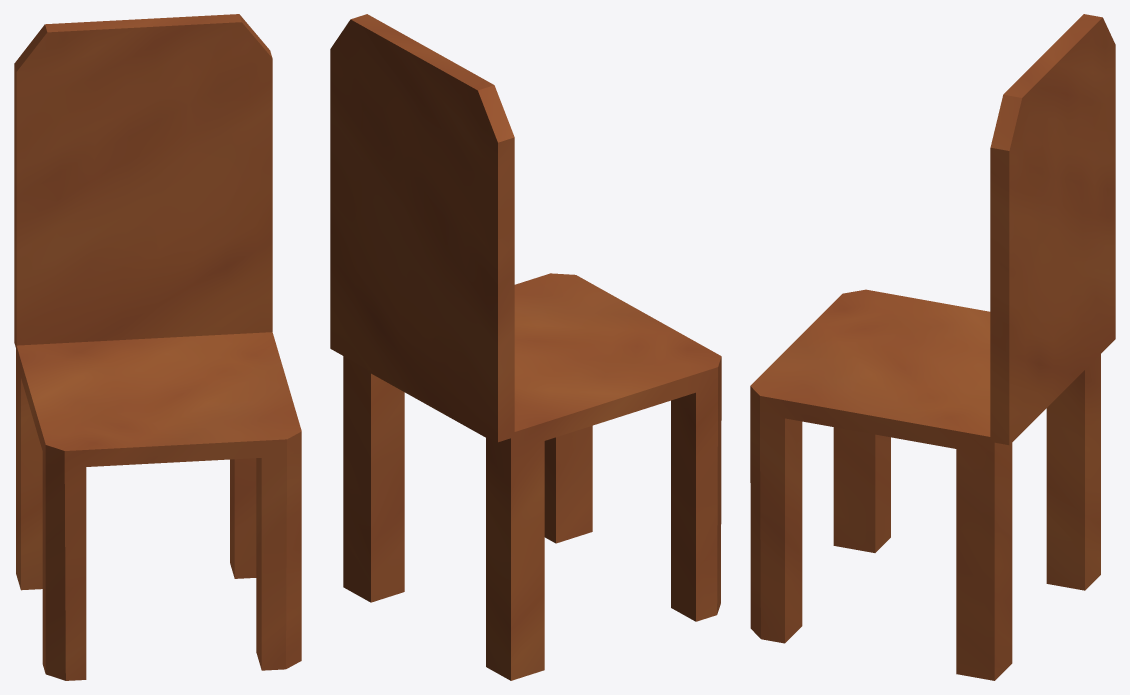
File: Silla.fbx
3 renders of one model, left to right at view 1: azimuth 30°, elevation 25°; view 2: azimuth 150°, elevation 25°; view 3: azimuth 270°, elevation 25°, orthographic. The views are drawn at different scales.
Visible parts, largest first — view 1: Silla.001; view 2: Silla.001; view 3: Silla.001.
Part boxes in pixels (x1,y1,x2,y2): Silla.001: [14, 14, 301, 680]; Silla.001: [330, 14, 721, 680]; Silla.001: [750, 14, 1115, 680].
Bounding box in the file's own units: 63.38 × 112 × 64.89.
